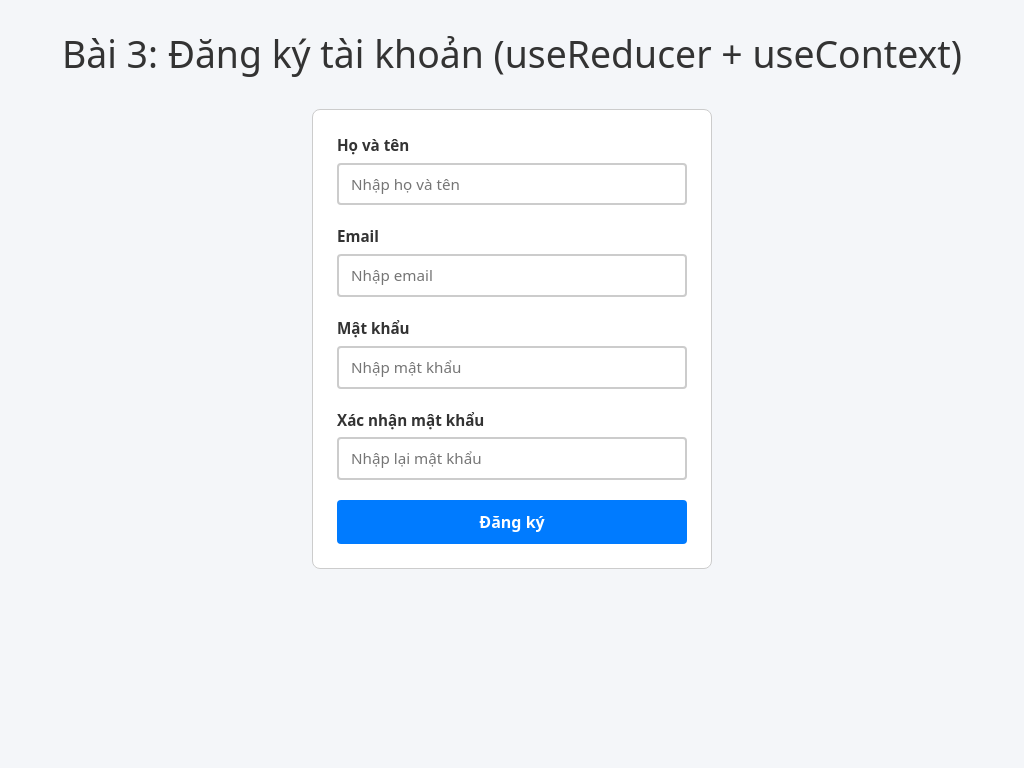
Test: Ex03 – Validation Form (Context + Reducer) › hiển thị lỗi xác nhận mật khẩu không khớp
This screenshot has width=1024, height=768.
Type "Password1" into the password field labelled "Mật khẩu" at (512, 367), box [337,346,687,389]
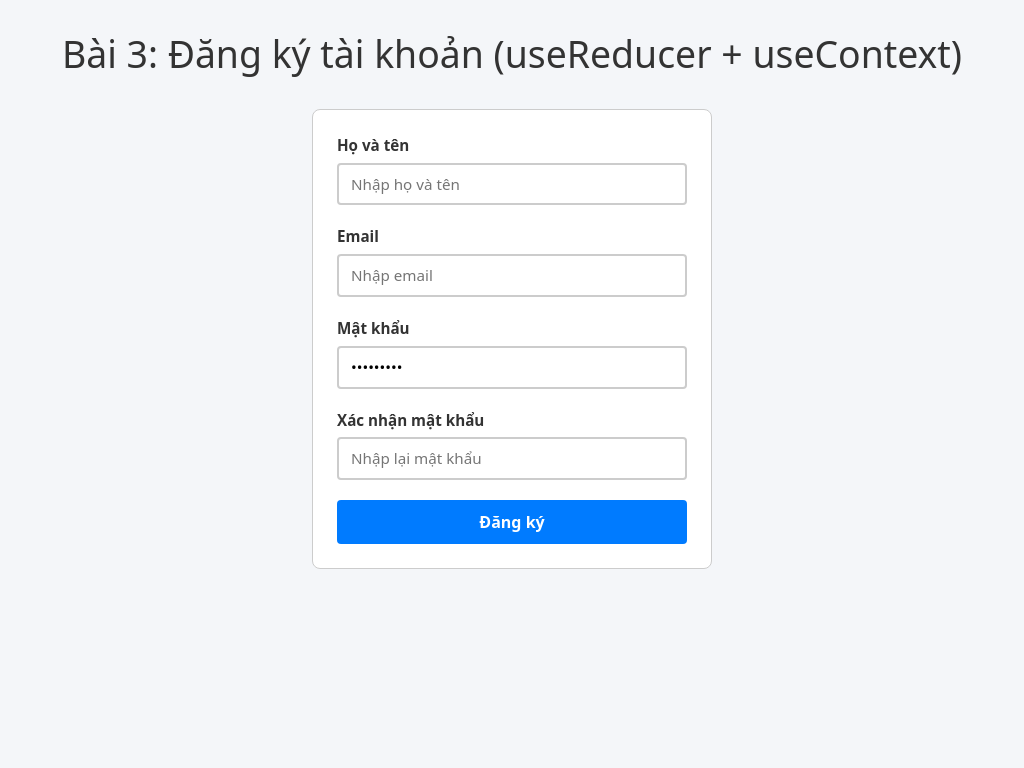
Type "Password2" into the password field labelled "Xác nhận mật khẩu" at (512, 459), box [337,437,687,480]
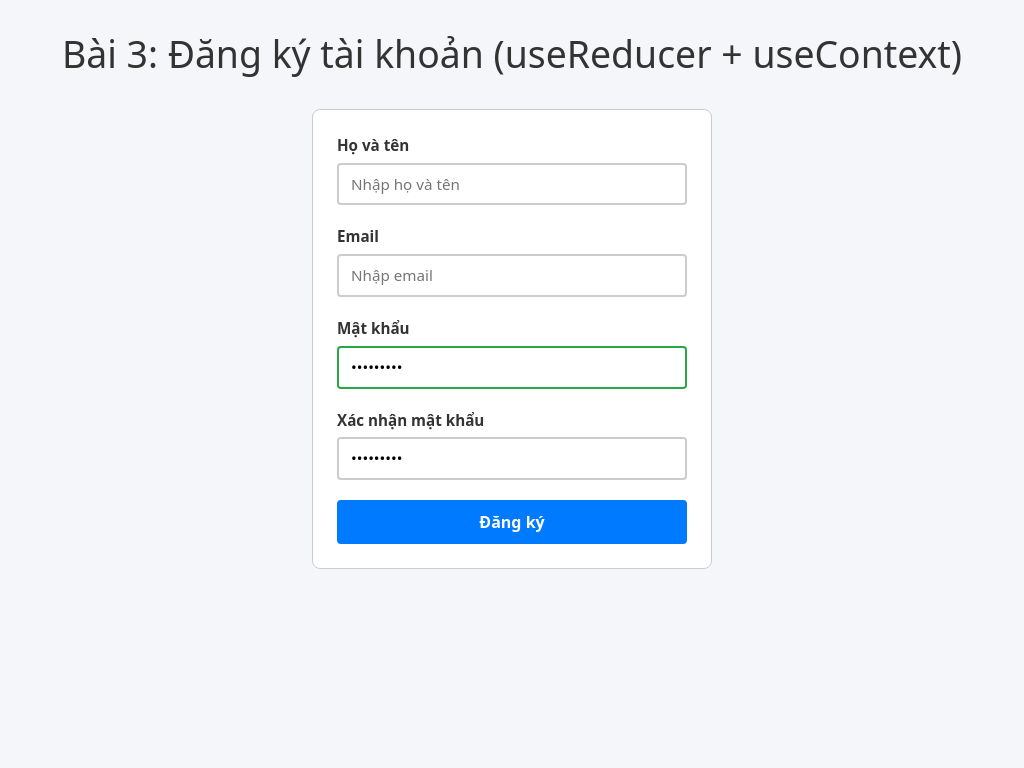
Leave the password field labelled "Xác nhận mật khẩu", box [337,437,687,480]
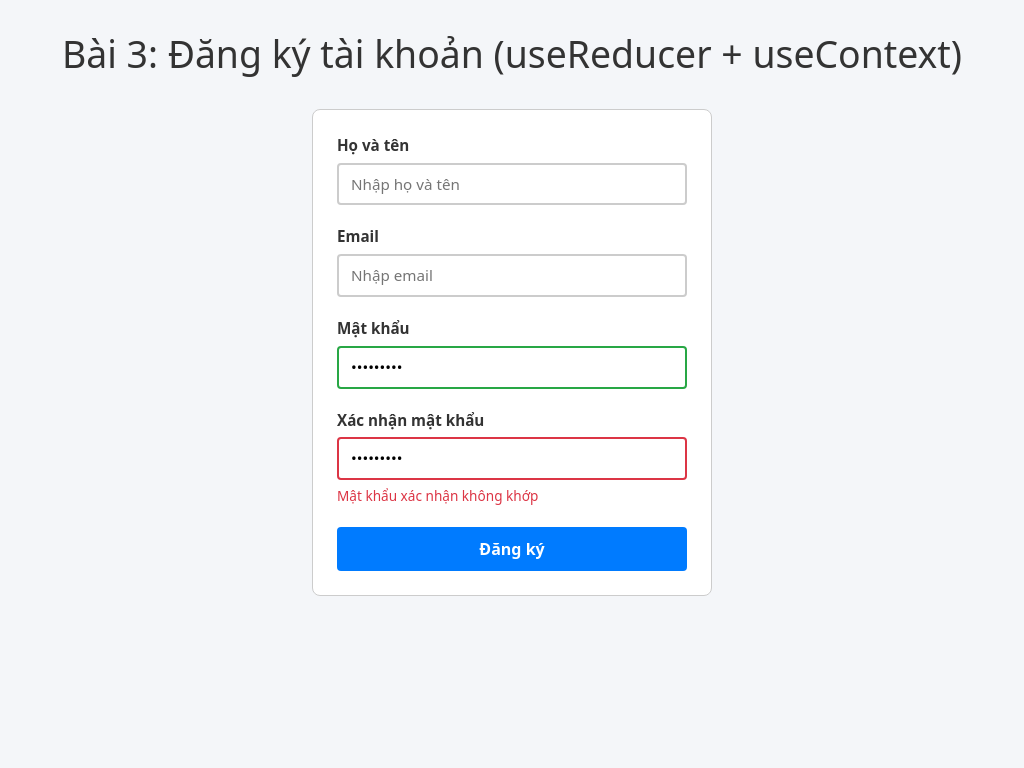
Expected: the text "Mật khẩu xác nhận không khớp" is shown, [337,486,538,505]
